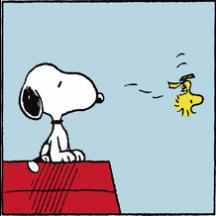snoopy: (17, 62, 105, 174)
